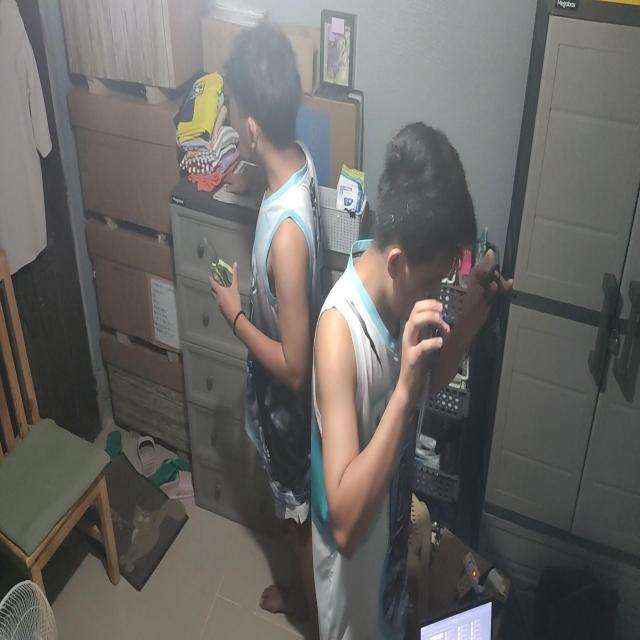scissor: (200, 227, 237, 299)
